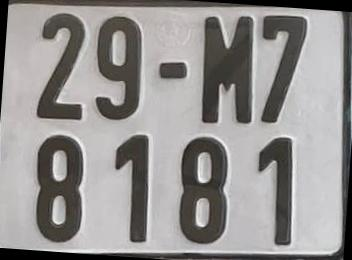-: (159, 62, 187, 77)
1: (115, 134, 148, 243), (260, 137, 292, 244)
2: (37, 14, 82, 118)
7: (262, 16, 306, 122)
8: (180, 138, 226, 242), (37, 135, 82, 241)
9: (98, 16, 143, 119)
M: (203, 17, 250, 124)
